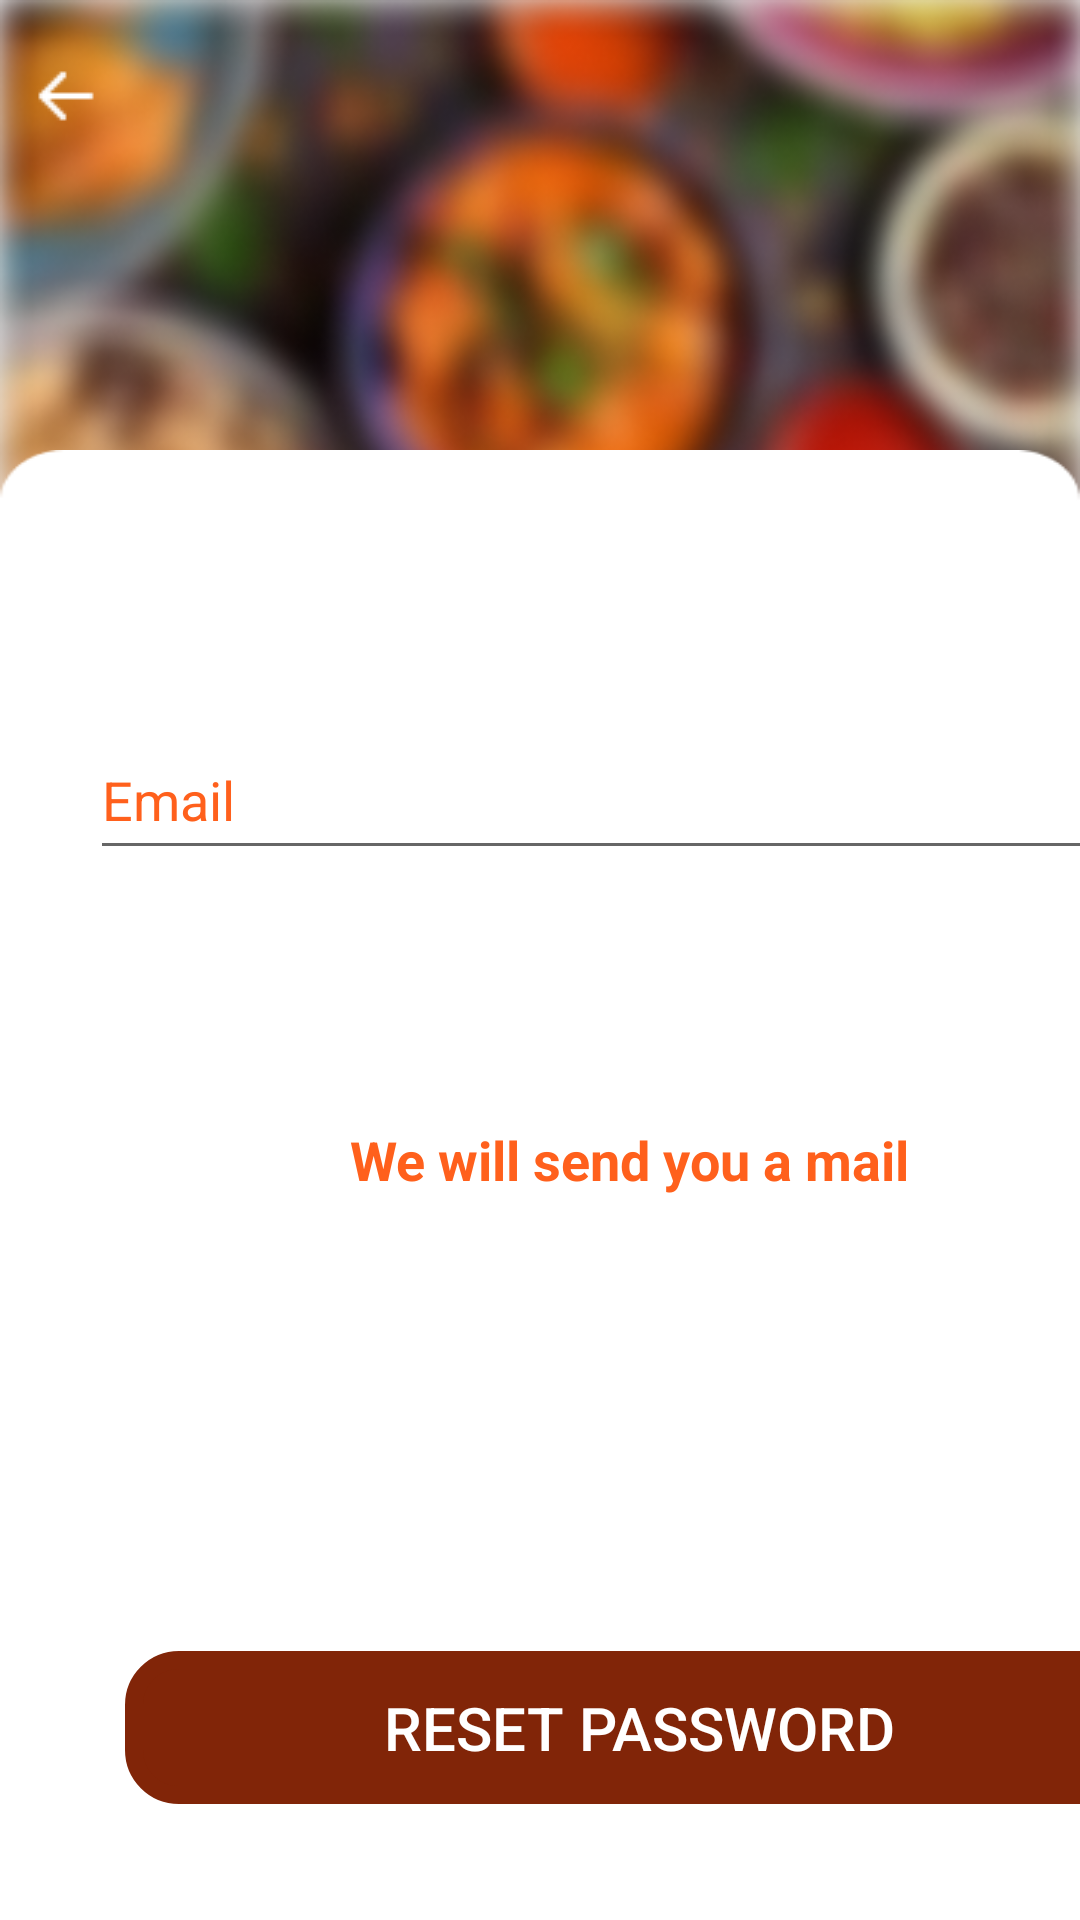

Named icons in this screenshot (1080 × 1920) and their centers, (x,y):
arrow: (66,96)
